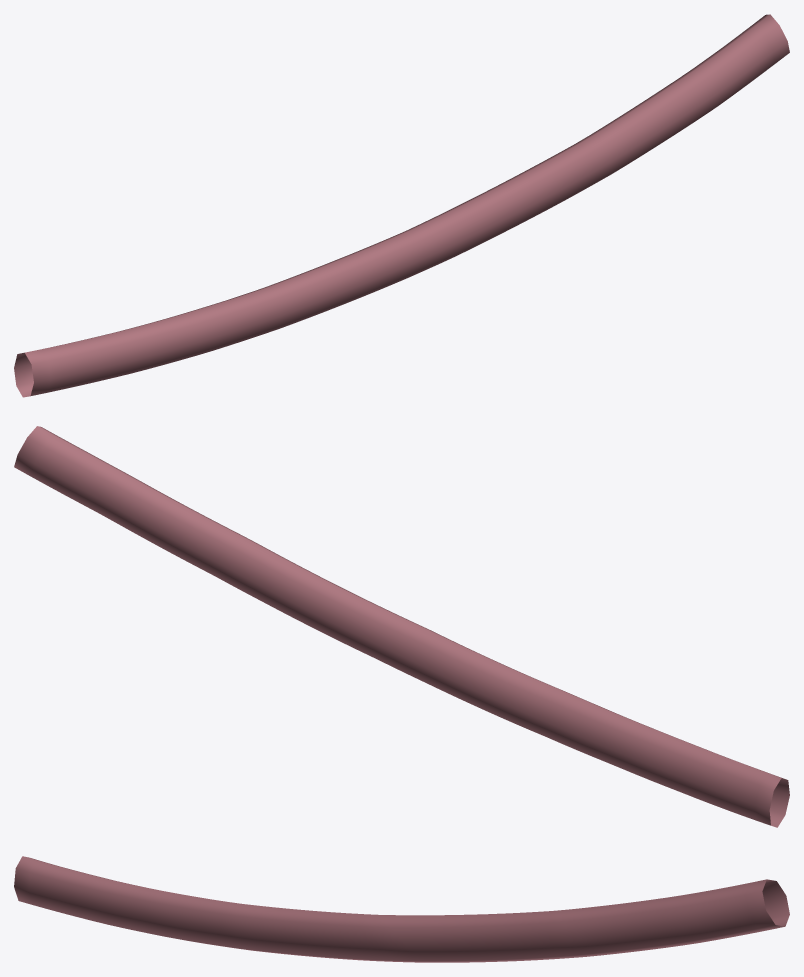
3 views of the same model, one above another, from view 1: azimuth 30°, elevation 25°; view 2: azimuth 150°, elevation 25°; view 3: azimuth 330°, elevation 25° (orthographic).
Visible parts, largest first — view 1: Mouth_Lip; view 2: Mouth_Lip; view 3: Mouth_Lip.
Part boxes in pixels (<box>): Mouth_Lip: <box>14,14,789,397</box>; Mouth_Lip: <box>14,426,789,827</box>; Mouth_Lip: <box>14,856,789,962</box>.
Bounding box in the file's own units: 0.087 × 0.023 × 0.00742.
